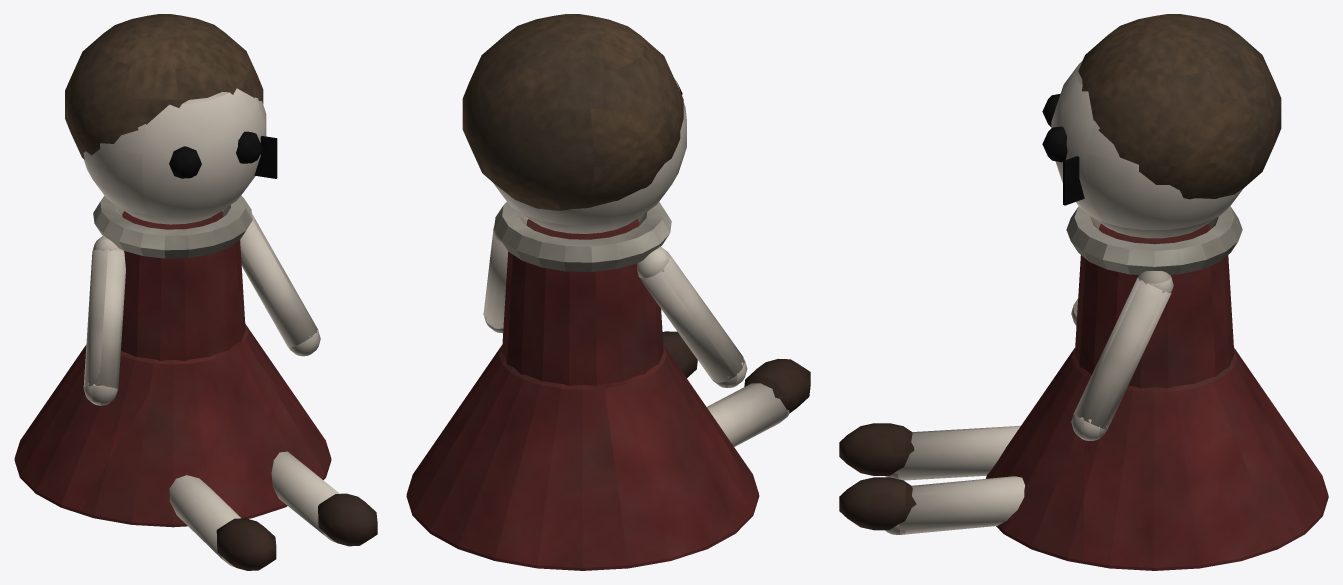
The model's file is T02_porcelain_doll_sitting_v2.glb.
3 renders of one model, left to right at view 1: azimuth 30°, elevation 25°; view 2: azimuth 150°, elevation 25°; view 3: azimuth 270°, elevation 25°, orthographic. The views are drawn at different scales.
Visible parts, largest first — view 1: T02_porcelain_doll_sitting_v2; view 2: T02_porcelain_doll_sitting_v2; view 3: T02_porcelain_doll_sitting_v2.
Boxes of the visible parts, box(x1,y1,x2,y2) form: T02_porcelain_doll_sitting_v2: box(14, 14, 377, 570); T02_porcelain_doll_sitting_v2: box(406, 14, 810, 570); T02_porcelain_doll_sitting_v2: box(839, 14, 1328, 570).
Size of the model in its own units: 0.2623 by 0.4 by 0.3686.
6 materials, 6 textured.
